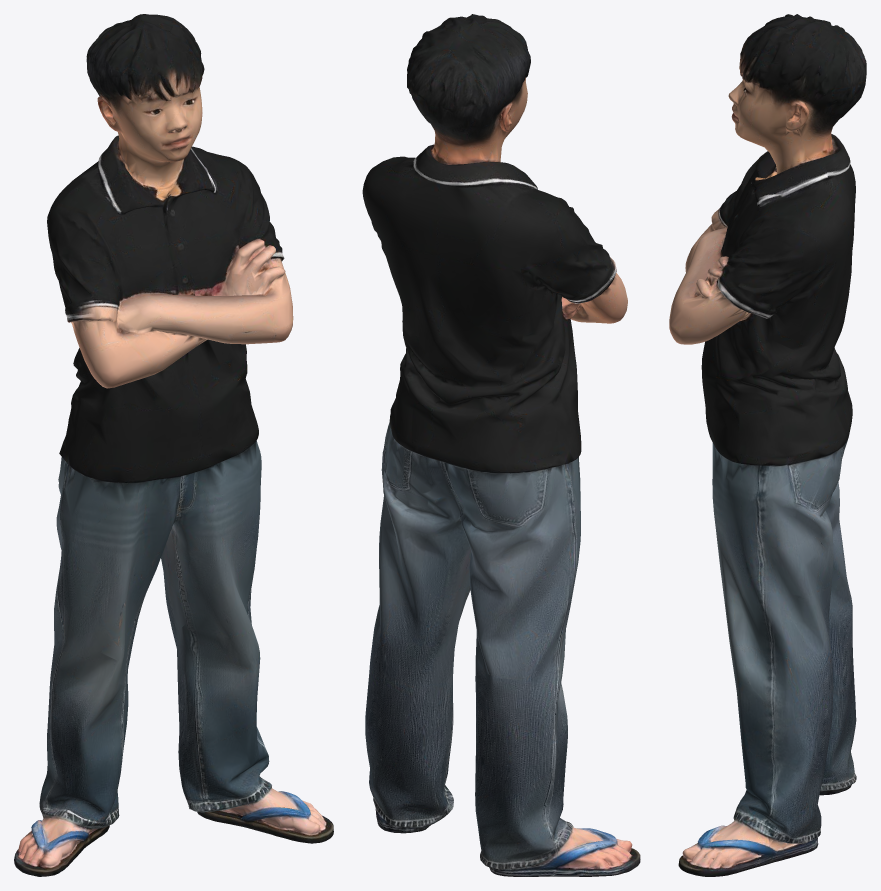
Rendered from product.glb.
The picture shows the model from 3 angles, left to right: view 1: azimuth 30°, elevation 25°; view 2: azimuth 150°, elevation 25°; view 3: azimuth 270°, elevation 25°; orthographic projection. The views are drawn at different scales.
Size of the model in its own units: 0.6933 by 1.9 by 0.428.
Materials: 1 (1 with a texture image).
